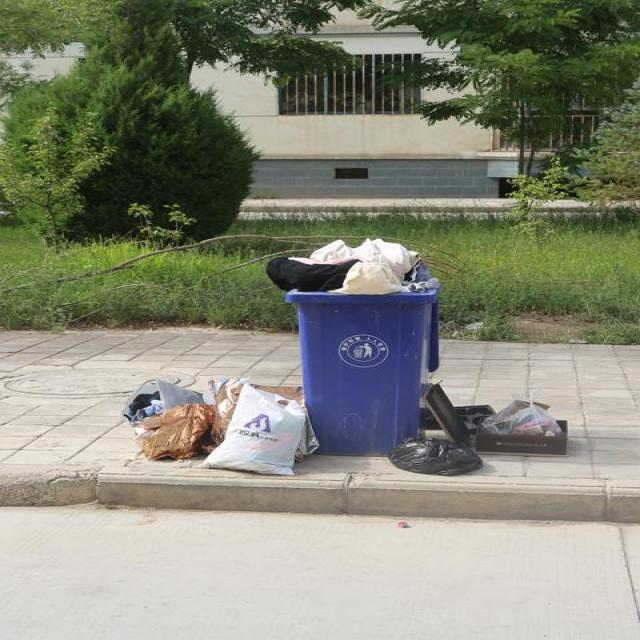garbage: (116, 378, 319, 476), (388, 380, 565, 476)
overflow: (266, 238, 438, 456)
